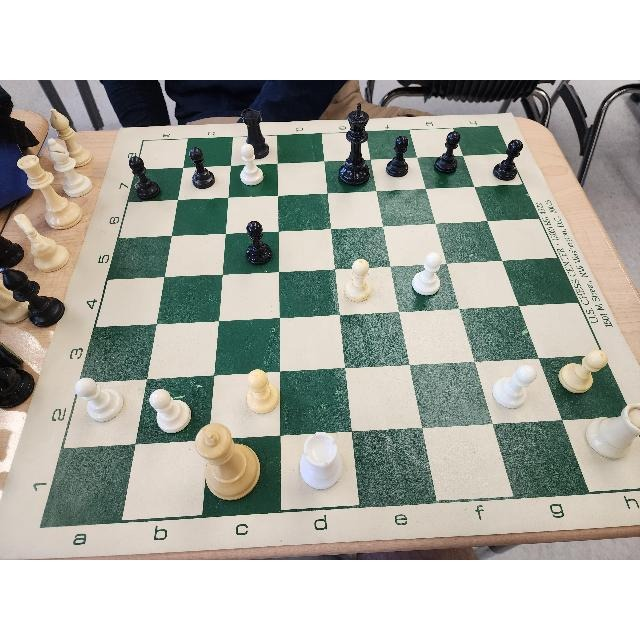black-bishop: (0, 265, 64, 326)
black-king: (340, 103, 372, 185)
black-pawn: (126, 155, 162, 201), (243, 221, 273, 265), (434, 132, 462, 176), (493, 140, 523, 180), (187, 148, 215, 188), (385, 134, 411, 177)
black-rook: (238, 108, 270, 159)
white-bishop: (43, 138, 93, 196), (49, 108, 94, 168)
white-king: (195, 424, 261, 500)
white-knight: (14, 213, 70, 273)
white-pawn: (76, 376, 123, 423), (559, 350, 607, 394), (148, 388, 191, 434), (493, 365, 534, 407), (246, 369, 279, 415), (412, 251, 441, 297), (345, 259, 373, 303), (240, 145, 263, 185)
white-queen: (17, 154, 82, 230)
white-rook: (587, 403, 639, 460), (298, 432, 344, 492)
